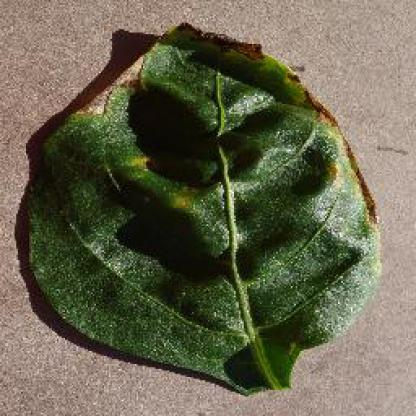bad leaf: (7, 30, 394, 375)
